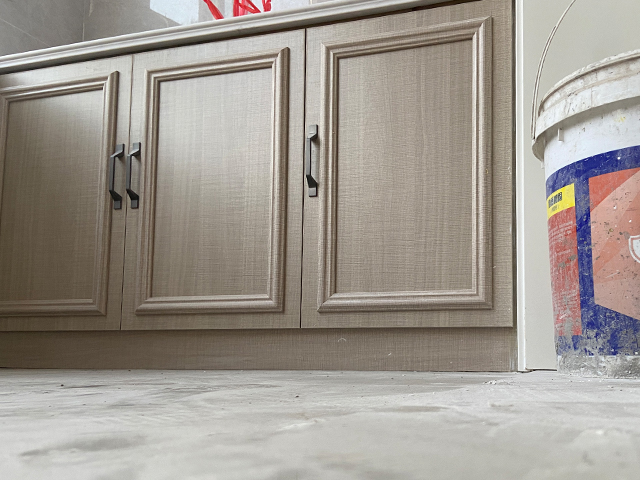cabinet: (1, 1, 526, 373)
